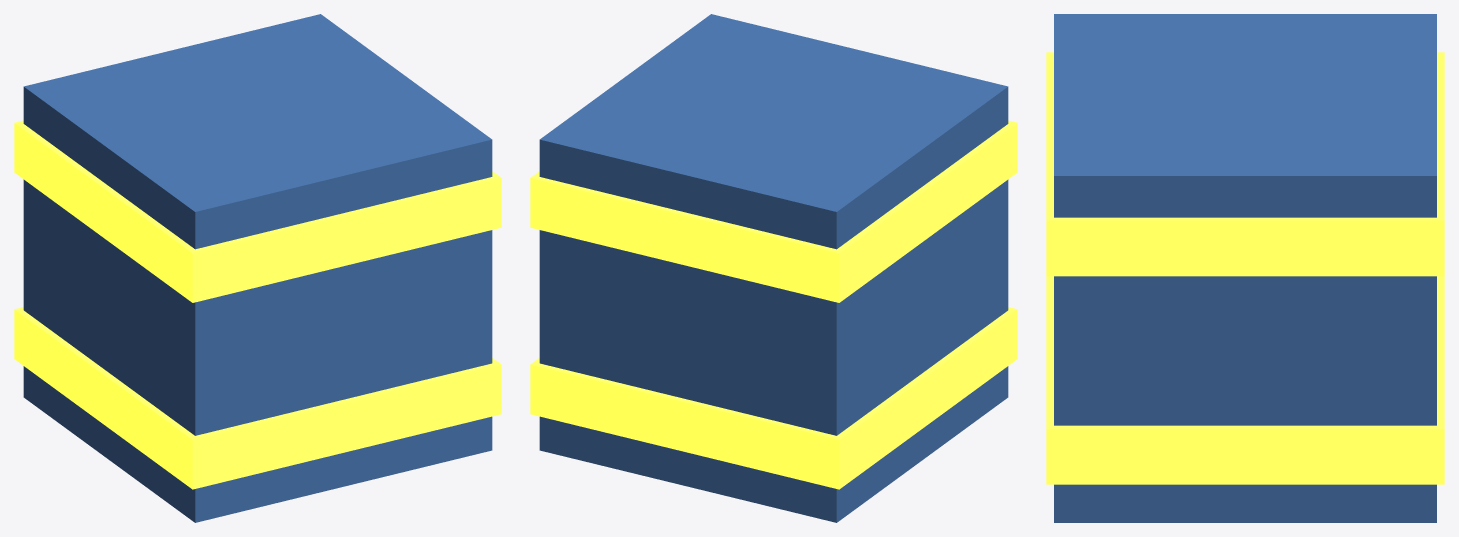
The model's file is blocky-crate.glb.
3 renders of one model, left to right at view 1: azimuth 30°, elevation 25°; view 2: azimuth 150°, elevation 25°; view 3: azimuth 270°, elevation 25°, orthographic. The views are drawn at different scales.
Visible parts, largest first — view 1: crate; view 2: crate; view 3: crate.
Part boxes in pixels (box(x1,y1,x2,y2)): crate: box(14, 14, 501, 522); crate: box(530, 14, 1017, 522); crate: box(1046, 14, 1444, 522).
Size of the model in its own units: 1.04 by 1 by 1.04.
